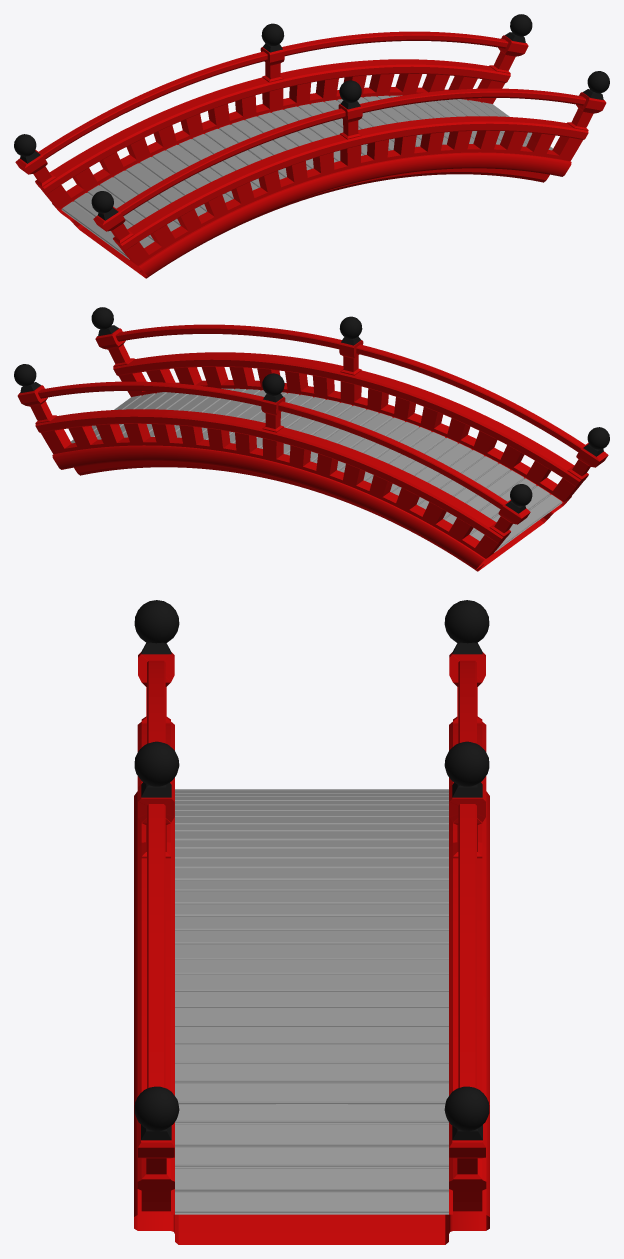
The model's file is Japanese_Bridge_LP.FBX.
The picture shows the model from 3 angles, top to bottom: view 1: azimuth 30°, elevation 25°; view 2: azimuth 150°, elevation 25°; view 3: azimuth 270°, elevation 25°; orthographic projection. The views are drawn at different scales.
Visible parts, largest first — view 1: J_bridge_LP, J_Bridge_Floor_LP, J_Bridge_Detail_LP; view 2: J_bridge_LP, J_Bridge_Floor_LP, J_Bridge_Detail_LP; view 3: J_Bridge_Floor_LP, J_bridge_LP, J_Bridge_Detail_LP.
Part boxes in pixels (x1,y1,x2,y2): J_bridge_LP: (15, 31, 606, 278); J_Bridge_Floor_LP: (61, 95, 553, 259); J_Bridge_Detail_LP: (14, 14, 609, 220); J_bridge_LP: (17, 324, 608, 571); J_Bridge_Floor_LP: (70, 388, 562, 552); J_Bridge_Detail_LP: (14, 307, 609, 513); J_Bridge_Floor_LP: (175, 789, 448, 1214); J_bridge_LP: (134, 652, 489, 1244); J_Bridge_Detail_LP: (134, 600, 489, 1140).
Bounding box in the file's own units: 356 × 101 × 107.
